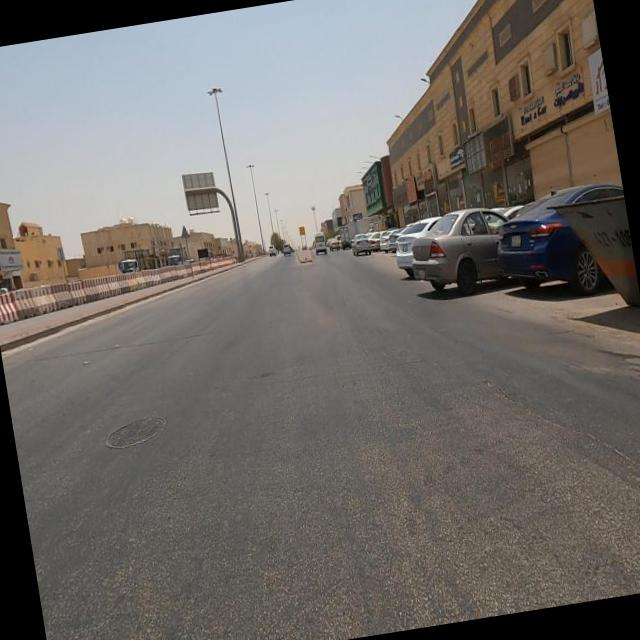debris: (451, 66, 558, 224), (444, 103, 514, 206), (365, 152, 434, 236)
